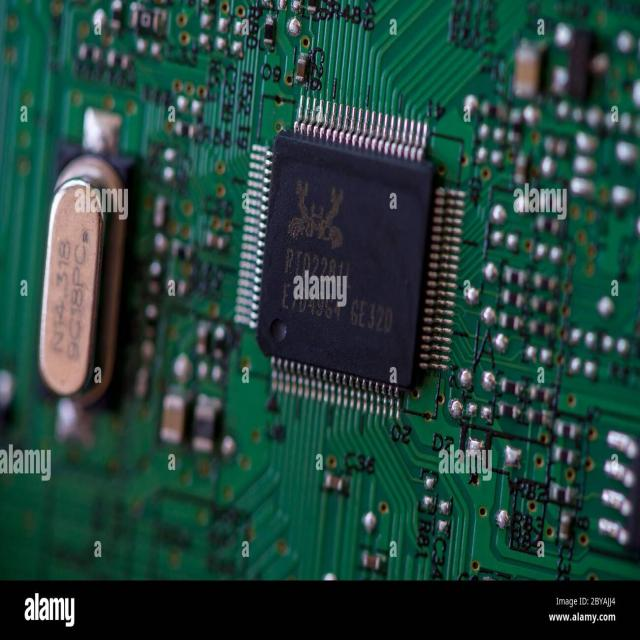pcb: (1, 0, 638, 583)
